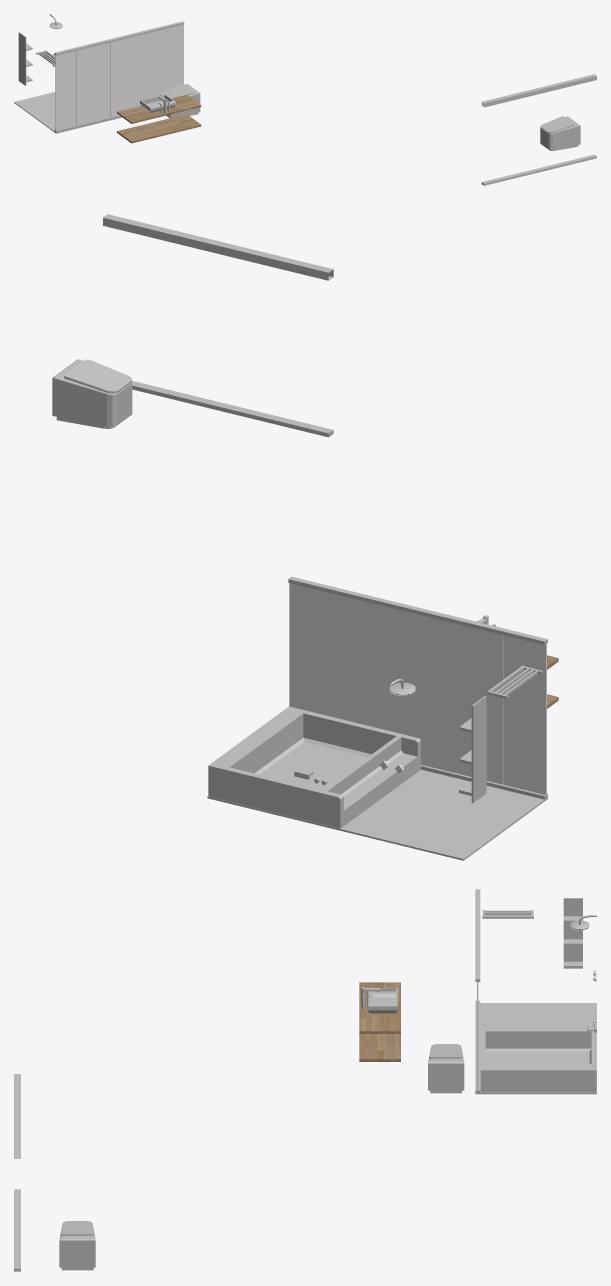
Rendered from Bethroom_2.fbx.
The picture shows the model from 3 angles, top to bottom: view 1: azimuth 30°, elevation 25°; view 2: azimuth 150°, elevation 25°; view 3: azimuth 270°, elevation 25°; orthographic projection. The views are drawn at different scales.
Parts seen in each view (by area): view 1: Bethroom_2_ShowerGlass, Bethroom_2_ShowerGlassDoor, Bethroom_2_SinkStructure, Bethroom_2_ShowerStructure, Bethroom_1_GalssDoor, Bethroom_1_Toilet, Bethroom_2_Toilet, Bethroom_2_Shelf_2, Bethroom_2_Sink; view 2: Bethroom_2_ShowerGlass, Bethroom_2_Bethtub, Bethroom_2_ShowerStructure, Bethroom_2_ShowerGlassDoor, Bethroom_1_GalssDoor, Bethroom_1_Toilet, Bethroom_2_Shelf_2; view 3: Bethroom_2_Bethtub, Bethroom_2_ShowerStructure, Bethroom_2_SinkStructure, Bethroom_1_Toilet, Bethroom_2_Toilet, Bethroom_2_Shelf_2, Bethroom_1_GalssDoor, Bethroom_2_Sink.
Part boxes in pixels (x1,y1,x2,y2): Bethroom_2_ShowerGlass: (55,24,183,130); Bethroom_2_ShowerGlassDoor: (76,42,110,125); Bethroom_2_SinkStructure: (117,94,201,143); Bethroom_2_ShowerStructure: (14,21,184,133); Bethroom_1_GalssDoor: (481,74,596,185); Bethroom_1_Toilet: (540,116,580,150); Bethroom_2_Toilet: (160,84,200,118); Bethroom_2_Shelf_2: (18,32,32,85); Bethroom_2_Sink: (140,94,175,112); Bethroom_2_ShowerGlass: (289,583,546,794); Bethroom_2_Bethtub: (208,706,420,828); Bethroom_2_ShowerStructure: (207,576,547,860); Bethroom_2_ShowerGlassDoor: (435,619,503,784); Bethroom_1_GalssDoor: (103,214,333,437); Bethroom_1_Toilet: (52,359,132,428); Bethroom_2_Shelf_2: (459,696,486,802); Bethroom_2_Bethtub: (480,1024,596,1092); Bethroom_2_ShowerStructure: (475,889,596,1094); Bethroom_2_SinkStructure: (359,982,400,1061); Bethroom_1_Toilet: (59,1221,95,1270); Bethroom_2_Toilet: (428,1044,464,1093); Bethroom_2_Shelf_2: (563,898,582,968); Bethroom_1_GalssDoor: (14,1074,20,1271); Bethroom_2_Sink: (367,988,397,1013).
Bounding box in the file's own units: 3288 × 680 × 3032.
